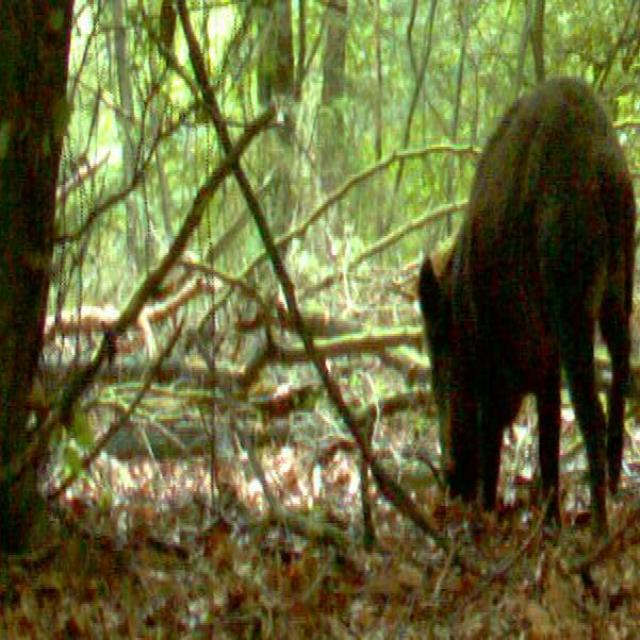pig: (399, 35, 640, 593)
